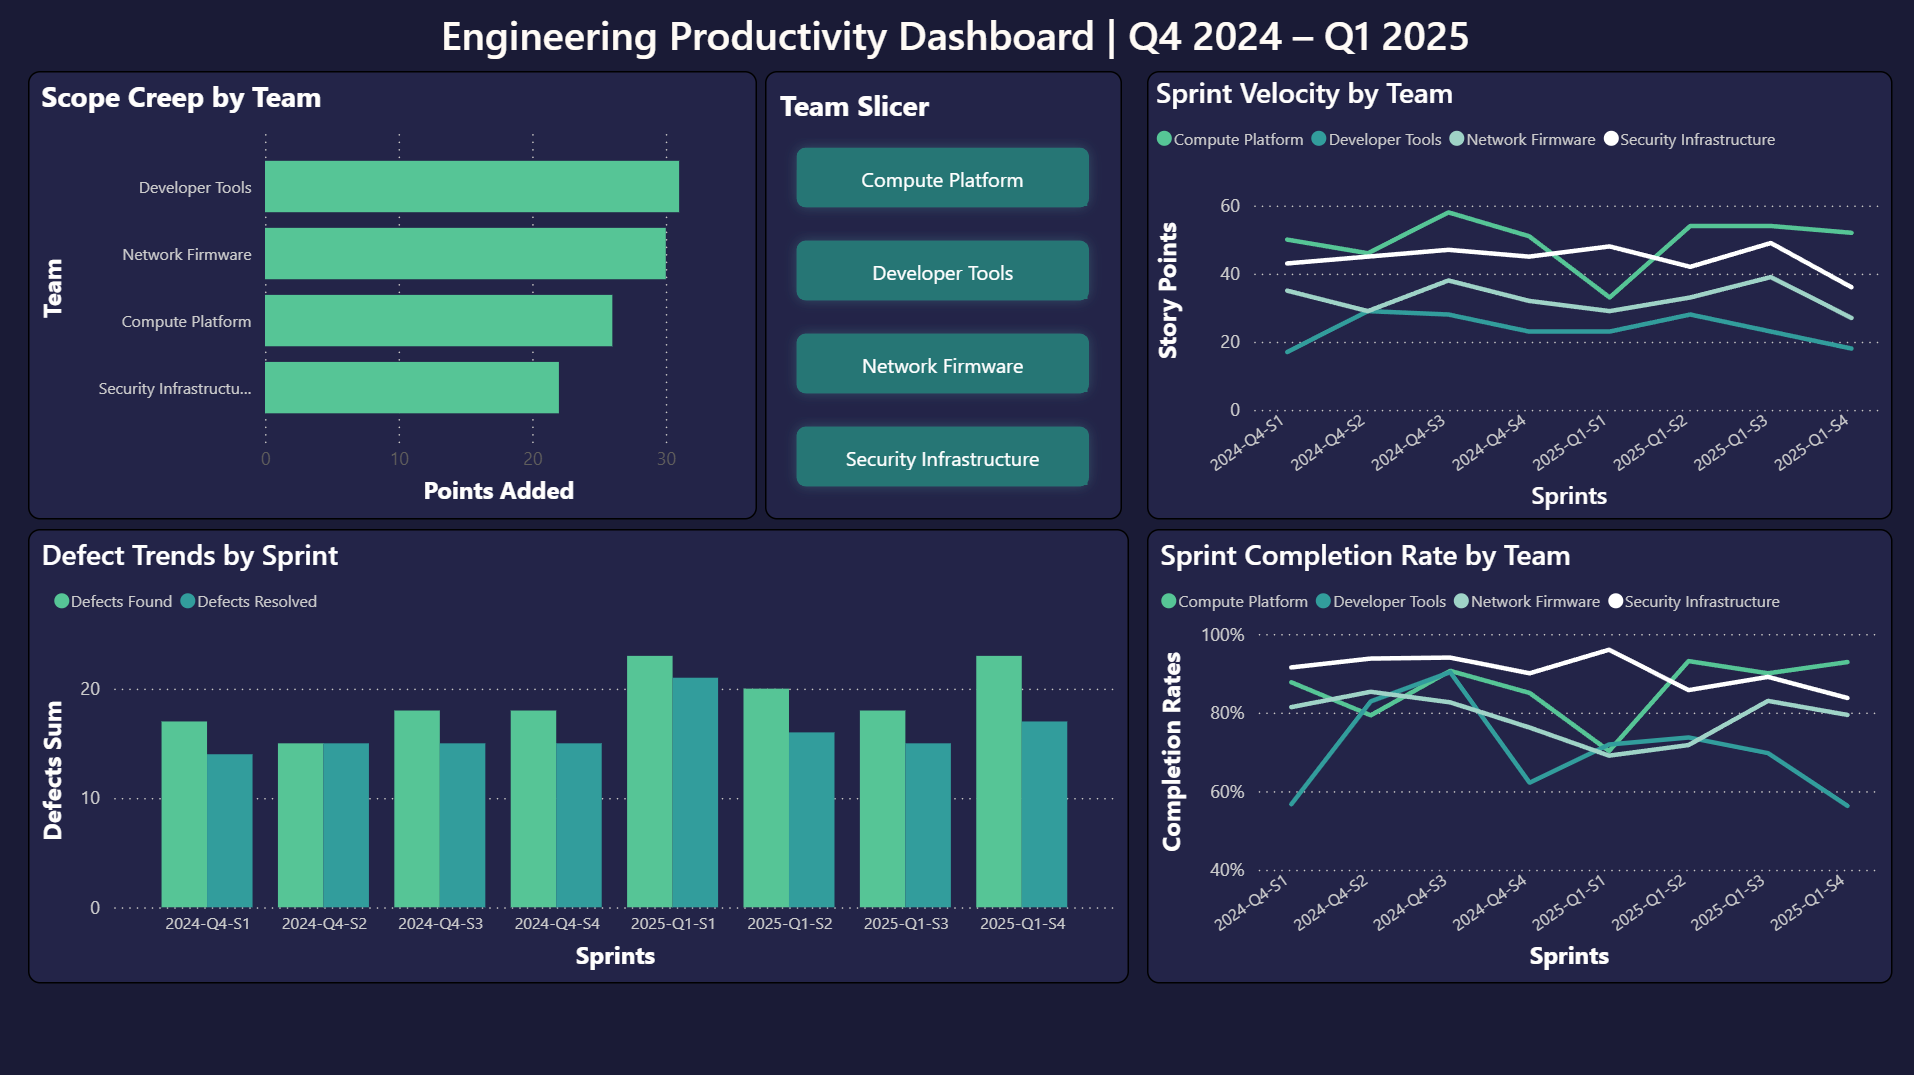

The dashboard page shown, as its layout file describes it:
{"tool":"powerbi","page":{"name":"Page 1","canvas":[1280,720],"ordinal":0},"visuals":[{"type":"lineChart","title":"Sprint Completion Rate by Team","fields":{"Category":["sprints.sprint_label"],"Y":["Sum(sprints.completion_rate)"],"Series":["sprints.team_name"]},"box":[765.7,353.6,497.1,302.9],"z":2000},{"type":"clusteredColumnChart","title":"Defect Trends by Sprint","fields":{"Category":["sprints.sprint_label"],"Y":["Sum(sprints.defects_found)","Sum(sprints.defects_resolved)"]},"box":[20,353.6,734.3,302.9],"z":2500},{"type":"listSlicer","title":"Team Slicer","fields":{"Values":["teams.team_name"]},"box":[511.4,47.9,237.9,298.6],"z":3500},{"type":"lineChart","title":"Sprint Velocity by Team","fields":{"Category":["sprints.sprint_label"],"Y":["Sum(sprints.completed_points)"],"Series":["sprints.team_name"]},"box":[765.7,47.9,497.1,298.6],"z":4000},{"type":"barChart","title":"Scope Creep by Team","fields":{"Y":["Sum(scope_changes.points_added)"],"Category":["scope_changes.team_name"]},"box":[20,47.9,485.7,298.6],"z":4001},{"type":"textbox","box":[278.6,0,719.3,47.9],"z":4002}]}

Visuals, with their boxes in screenshot pixels (x1, y1, x2, y2), scaled from the page's 1280x720 canvas onto the 1914x1075 screenshot:
"Sprint Completion Rate by Team" lineChart: detection(1145, 528, 1888, 980)
"Defect Trends by Sprint" clusteredColumnChart: detection(30, 528, 1128, 980)
"Team Slicer" listSlicer: detection(765, 72, 1120, 517)
"Sprint Velocity by Team" lineChart: detection(1145, 72, 1888, 517)
"Scope Creep by Team" barChart: detection(30, 72, 756, 517)
textbox: detection(417, 0, 1492, 72)
